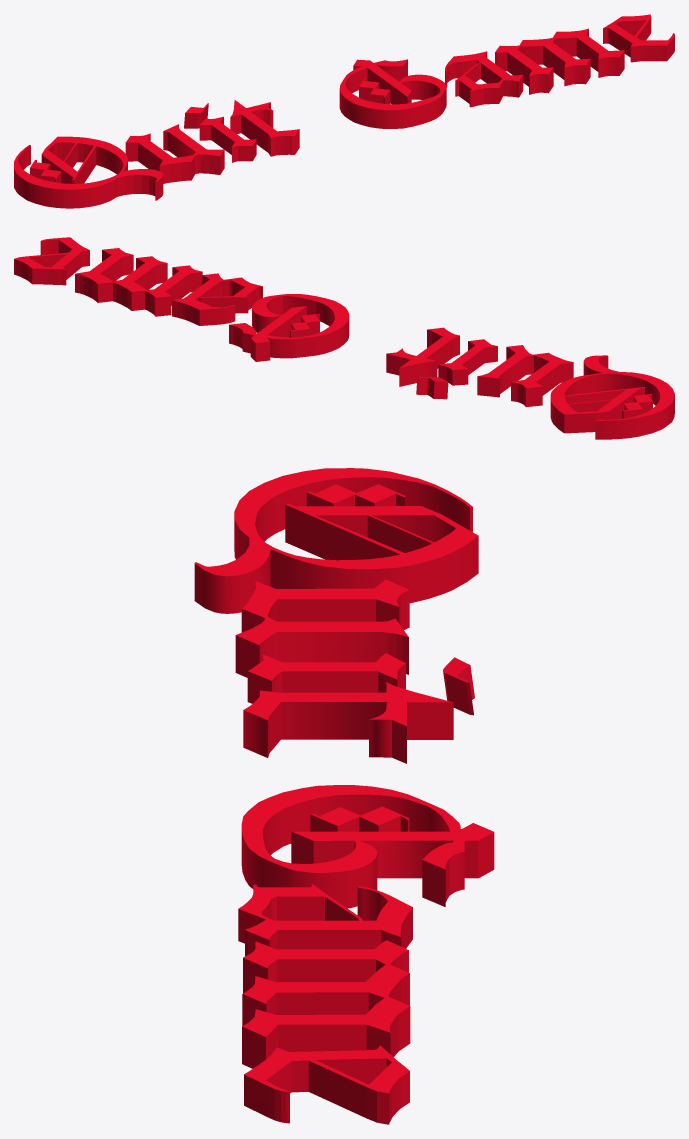
Rendered from quit game_low.FBX.
3 renders of one model, top to bottom at view 1: azimuth 30°, elevation 25°; view 2: azimuth 150°, elevation 25°; view 3: azimuth 270°, elevation 25°, orthographic. The views are drawn at different scales.
Parts seen in each view (by area): view 1: quitgame_low; view 2: quitgame_low; view 3: quitgame_low.
Part boxes in pixels (x1=…): quitgame_low: x1=14, y1=14, x2=674, y2=208; quitgame_low: x1=14, y1=237, x2=674, y2=439; quitgame_low: x1=194, y1=468, x2=494, y2=1124.
Bounding box in the file's own units: 1065 × 30 × 216.
